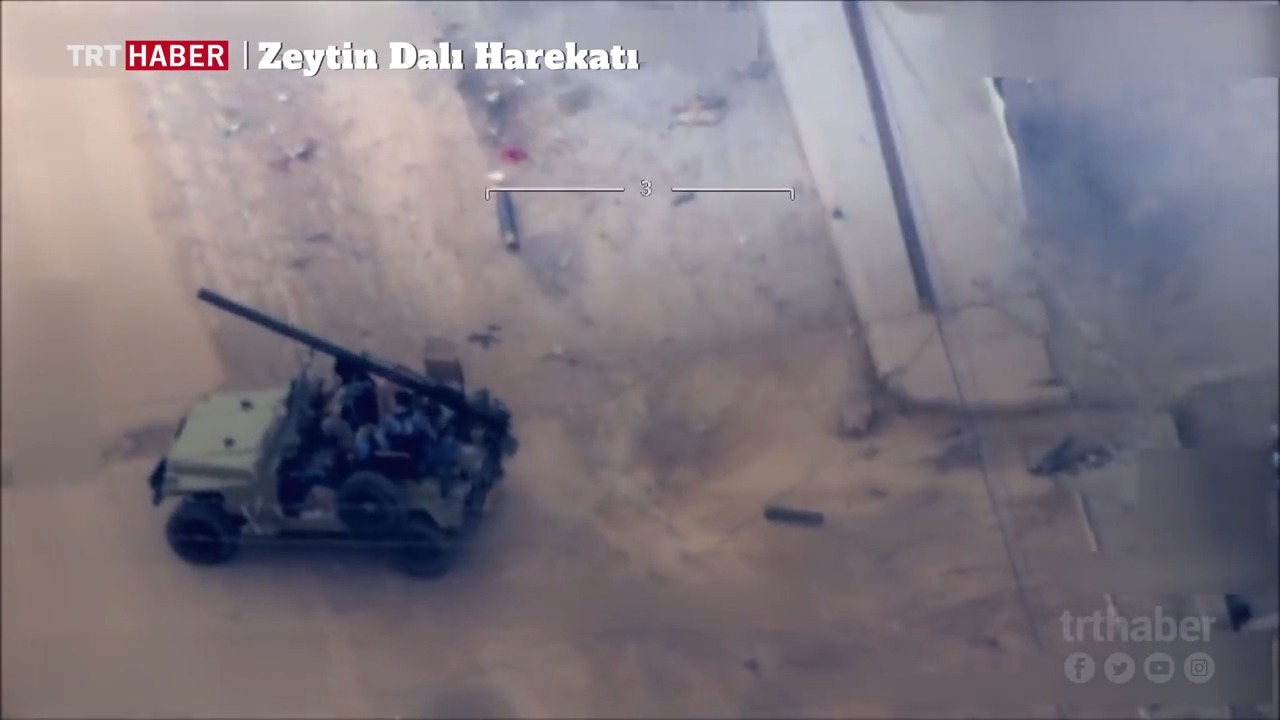arac: (134, 274, 518, 582)
